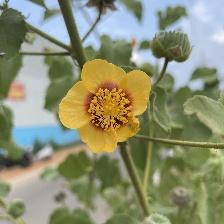indian mallow: (58, 57, 154, 158)
